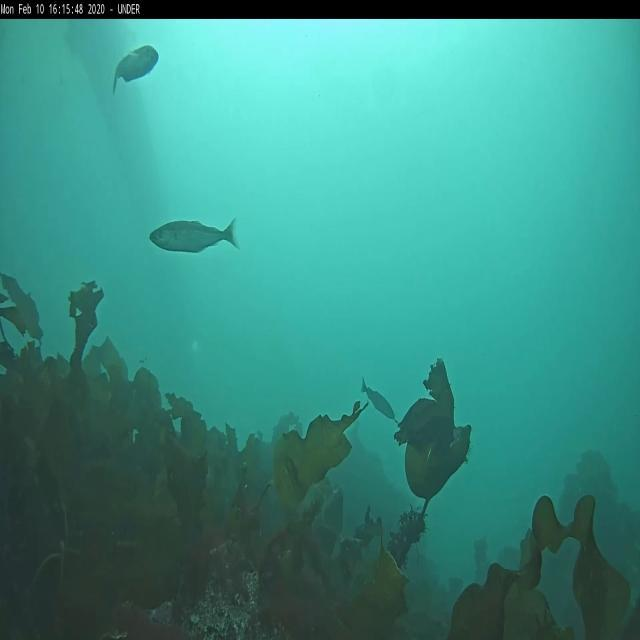fish: (151, 218, 240, 253), (110, 45, 158, 92), (361, 377, 396, 419)
